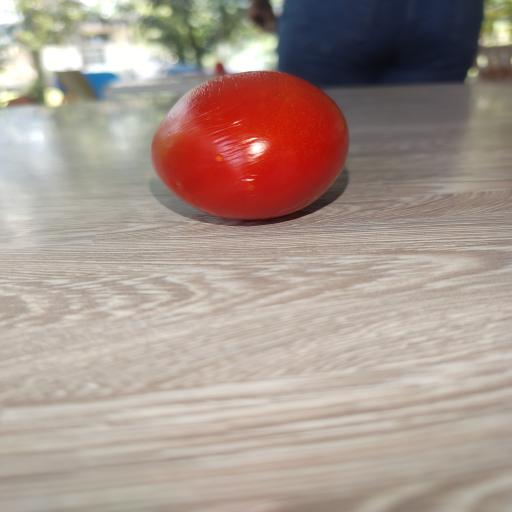spoiled: (151, 71, 348, 219)
